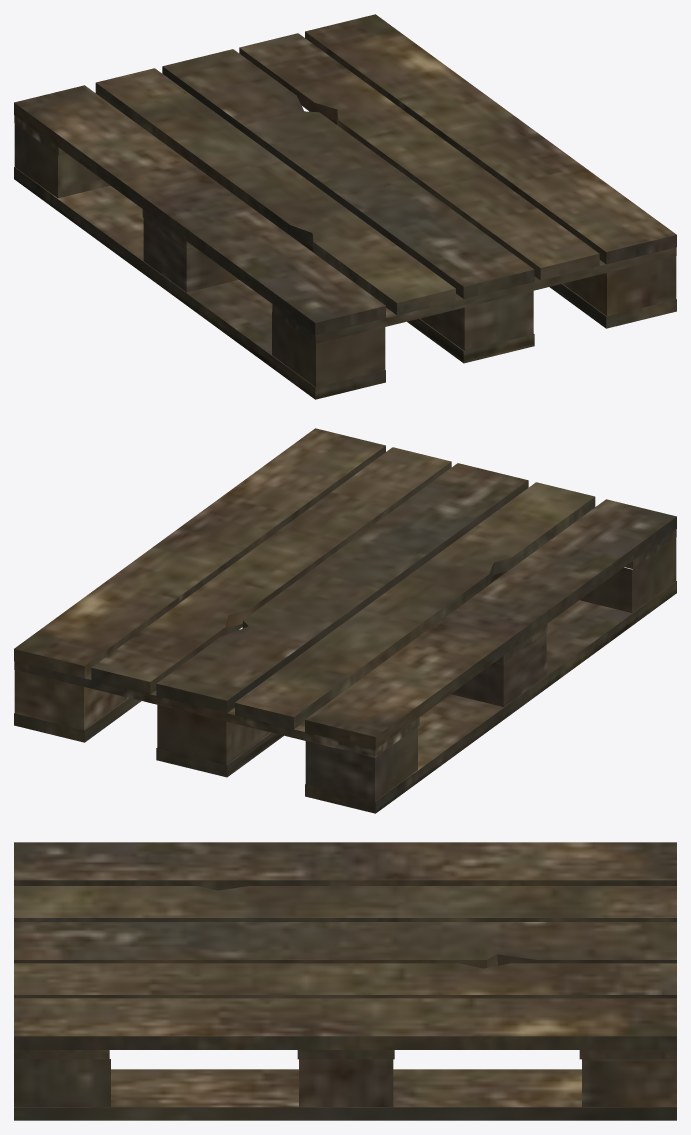
The picture shows the model from 3 angles, top to bottom: view 1: azimuth 30°, elevation 25°; view 2: azimuth 150°, elevation 25°; view 3: azimuth 270°, elevation 25°; orthographic projection. The views are drawn at different scales.
Parts seen in each view (by area): view 1: palet; view 2: palet; view 3: palet.
Part boxes in pixels (bbox=[...]): palet: bbox=[14, 14, 676, 399]; palet: bbox=[14, 428, 676, 813]; palet: bbox=[14, 842, 676, 1120].
Size of the model in its own units: 0.8315 by 0.1684 by 1.2.
1 material, 1 textured.
